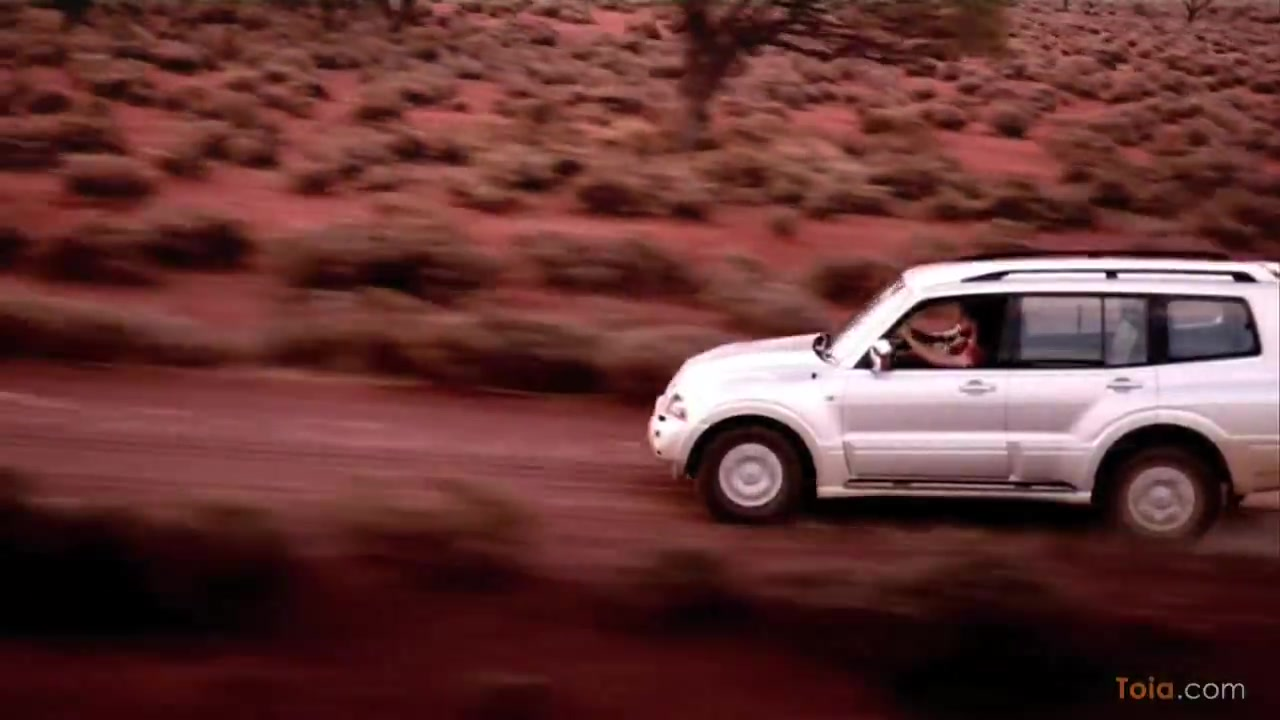car: (647, 248, 1280, 552)
